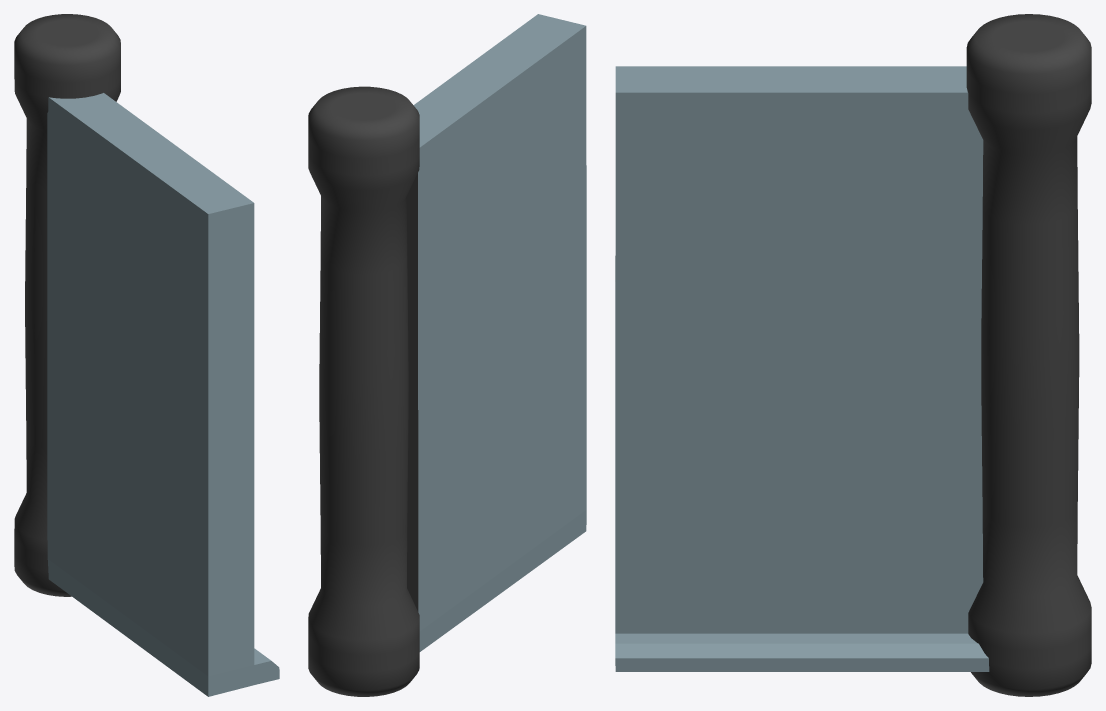
The model's file is small wall line 1 pillar.fbx.
3 views of the same model, side by side, from view 1: azimuth 30°, elevation 25°; view 2: azimuth 150°, elevation 25°; view 3: azimuth 270°, elevation 25° (orthographic). The views are drawn at different scales.
Parts seen in each view (by area): view 1: line_wall_small_1_pillar; view 2: line_wall_small_1_pillar; view 3: line_wall_small_1_pillar.
Part boxes in pixels (x1=…): line_wall_small_1_pillar: x1=14, y1=14, x2=279, y2=696; line_wall_small_1_pillar: x1=308, y1=14, x2=586, y2=696; line_wall_small_1_pillar: x1=615, y1=14, x2=1091, y2=696.
Bounding box in the file's own units: 157 × 881 × 597.
